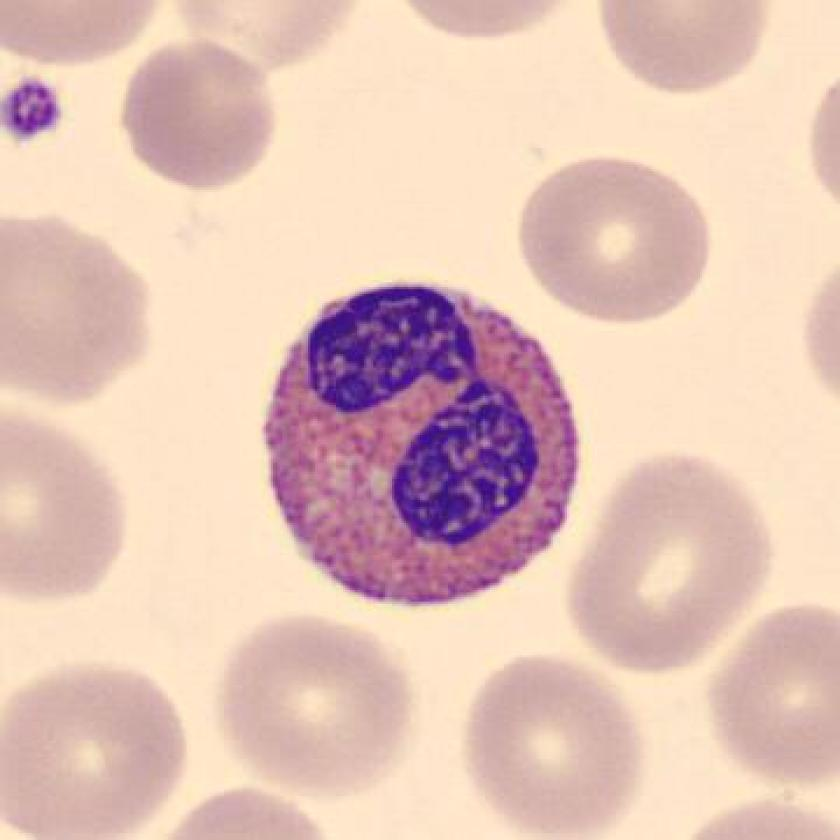eosinophil: (246, 270, 596, 621)
